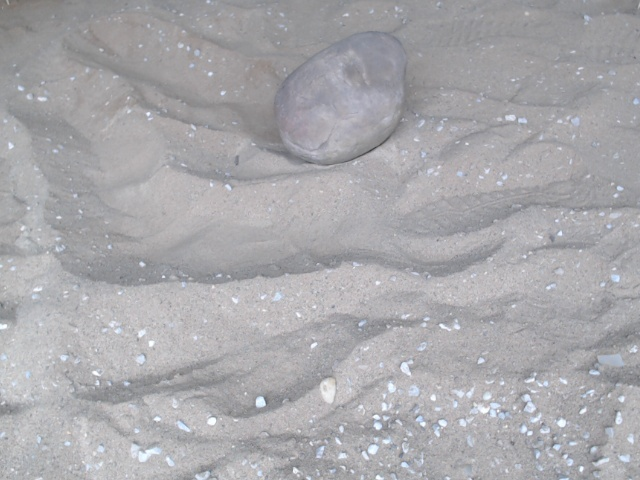rock: (270, 27, 414, 172)
